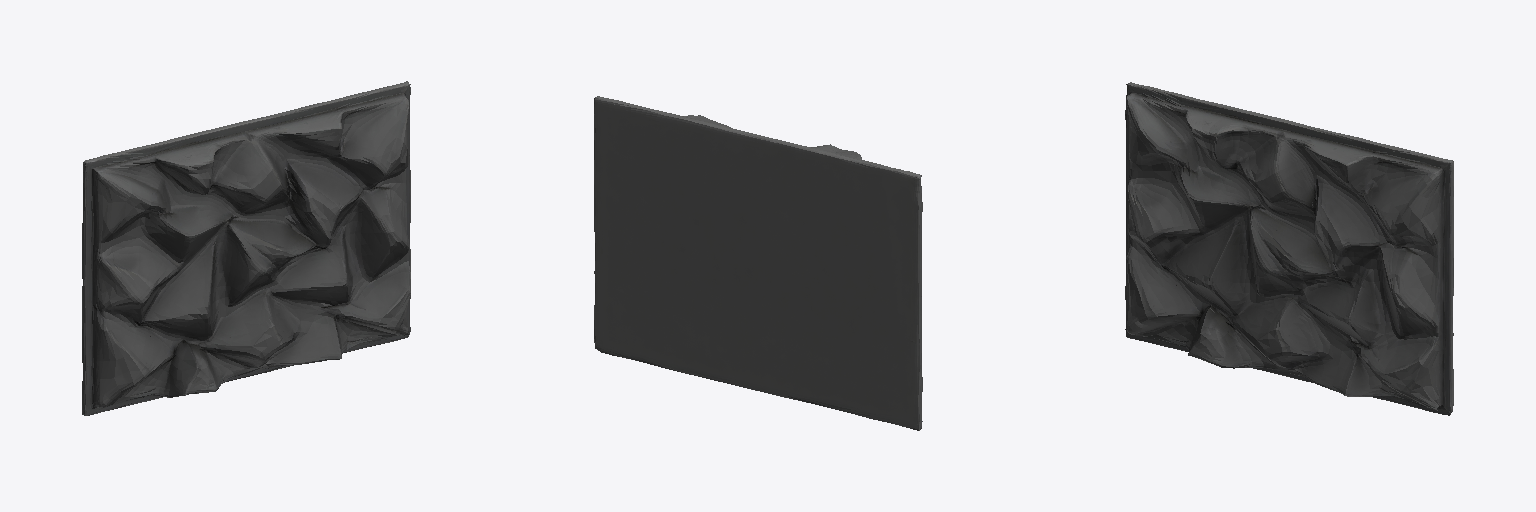
3 views of the same model, side by side, from view 1: azimuth 30°, elevation 25°; view 2: azimuth 150°, elevation 25°; view 3: azimuth 330°, elevation 25° (orthographic).
Visible parts, largest first — view 1: wall_acoustic_pane_[number redacted]_texture; view 2: wall_acoustic_pane_[number redacted]_texture; view 3: wall_acoustic_pane_[number redacted]_texture.
Part boxes in pixels (left/top/right/bottom): wall_acoustic_pane_[number redacted]_texture: left=82, top=81, right=410, bottom=415; wall_acoustic_pane_[number redacted]_texture: left=594, top=96, right=922, bottom=430; wall_acoustic_pane_[number redacted]_texture: left=1125, top=82, right=1453, bottom=415.
Bounding box in the file's own units: 1.91 × 1.43 × 0.2329.
1 materials, 1 textured.